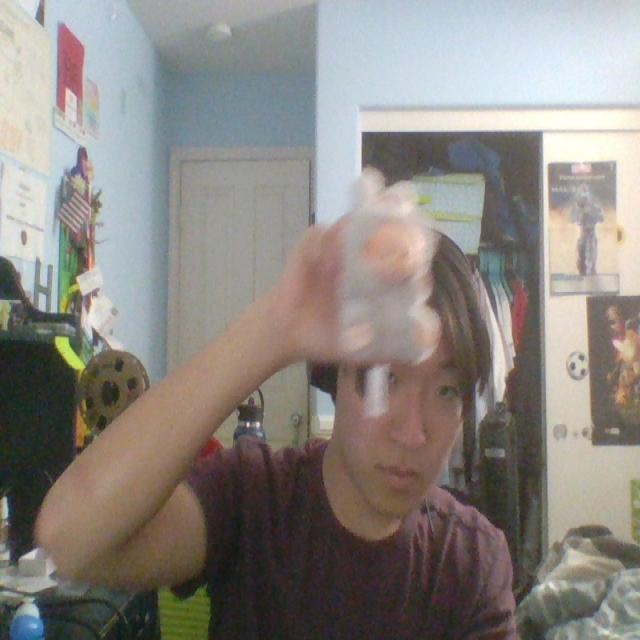labubu: (339, 169, 440, 359), (365, 371, 388, 413)
